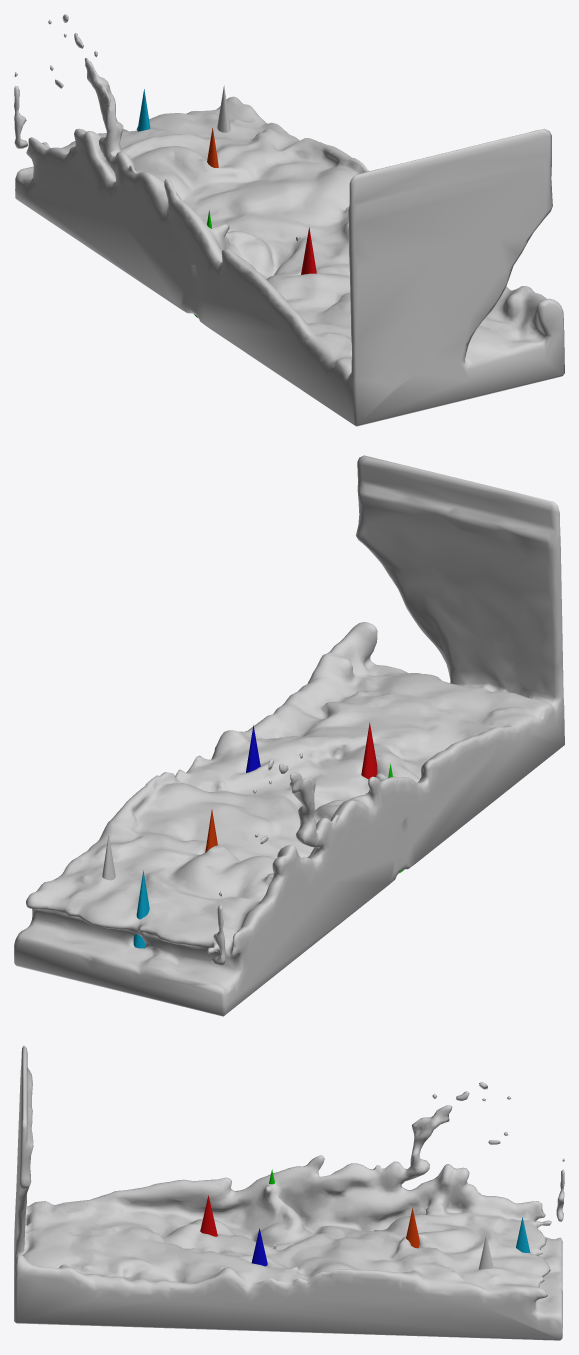
The picture shows the model from 3 angles, top to bottom: view 1: azimuth 30°, elevation 25°; view 2: azimuth 150°, elevation 25°; view 3: azimuth 270°, elevation 25°; orthographic projection. The views are drawn at different scales.
Parts seen in each view (by area): view 1: Liquid_Domain; view 2: Liquid_Domain; view 3: Liquid_Domain, 円錐.001.
Boxes of the visible parts, box(x1,y1,x2,y2) form: Liquid_Domain: box(14, 14, 564, 426); Liquid_Domain: box(14, 455, 564, 1016); Liquid_Domain: box(14, 1045, 564, 1340); 円錐.001: box(200, 1195, 217, 1236).
Size of the model in its own units: 129 by 158 by 363.
